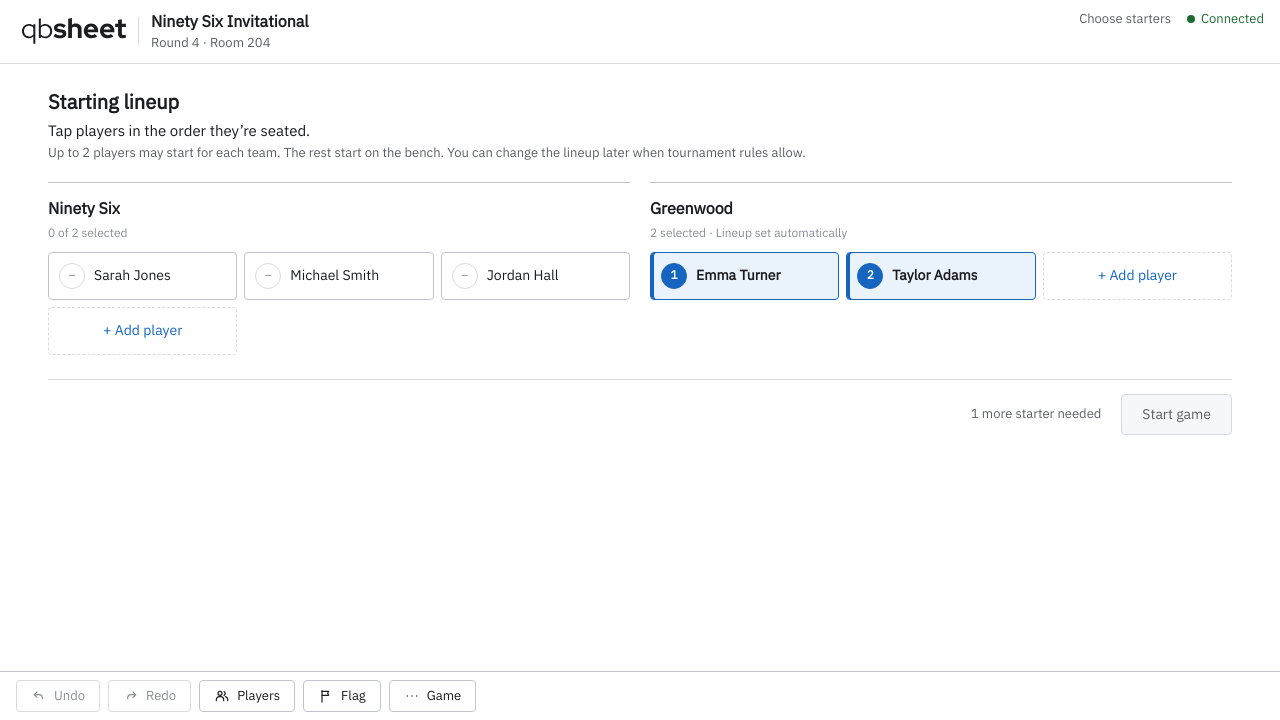
who is starting › the starters chosen are the ones charged with tossups heard from question one
The image size is (1280, 720).
What coordinates should you click on to do the following:
click the button with aria-label "Start Michael Smith"
I would click on:
 (339, 276)
Its box is [244, 252, 434, 300].
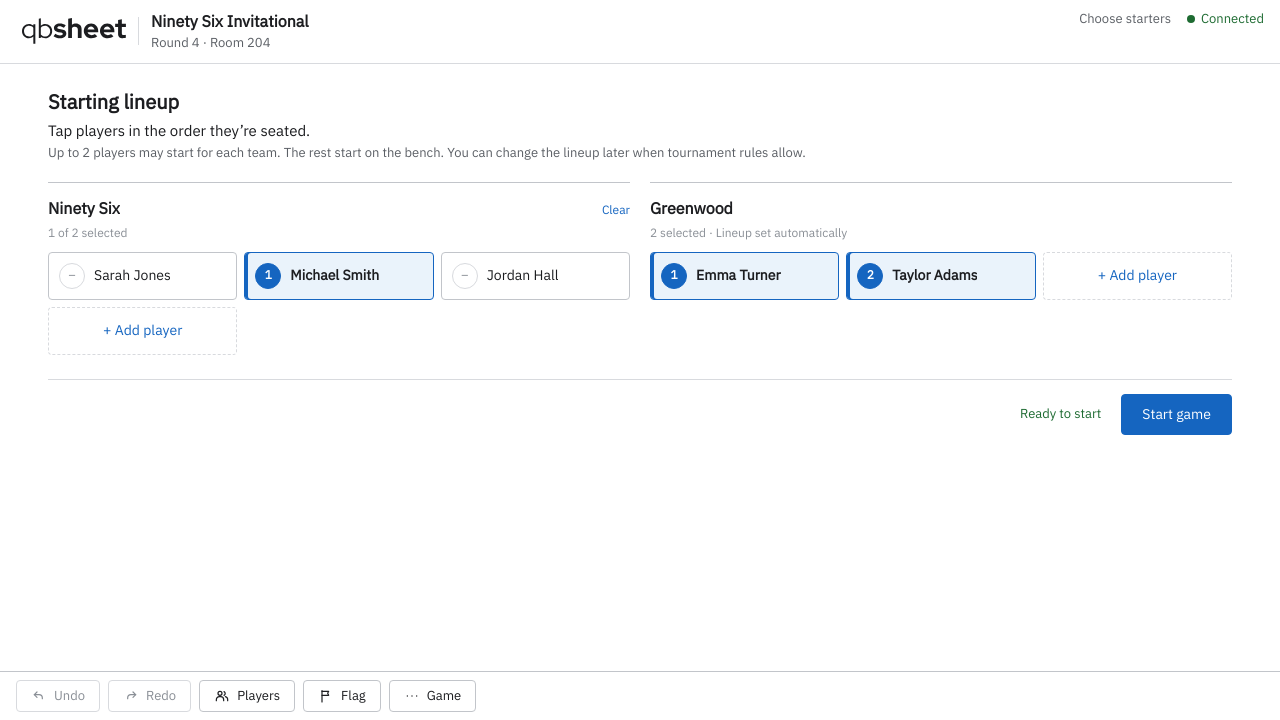
What coordinates should you click on to do the following:
click the button with aria-label "Start Jordan Hall"
I would click on:
 (535, 276)
Its box is [441, 252, 630, 300].
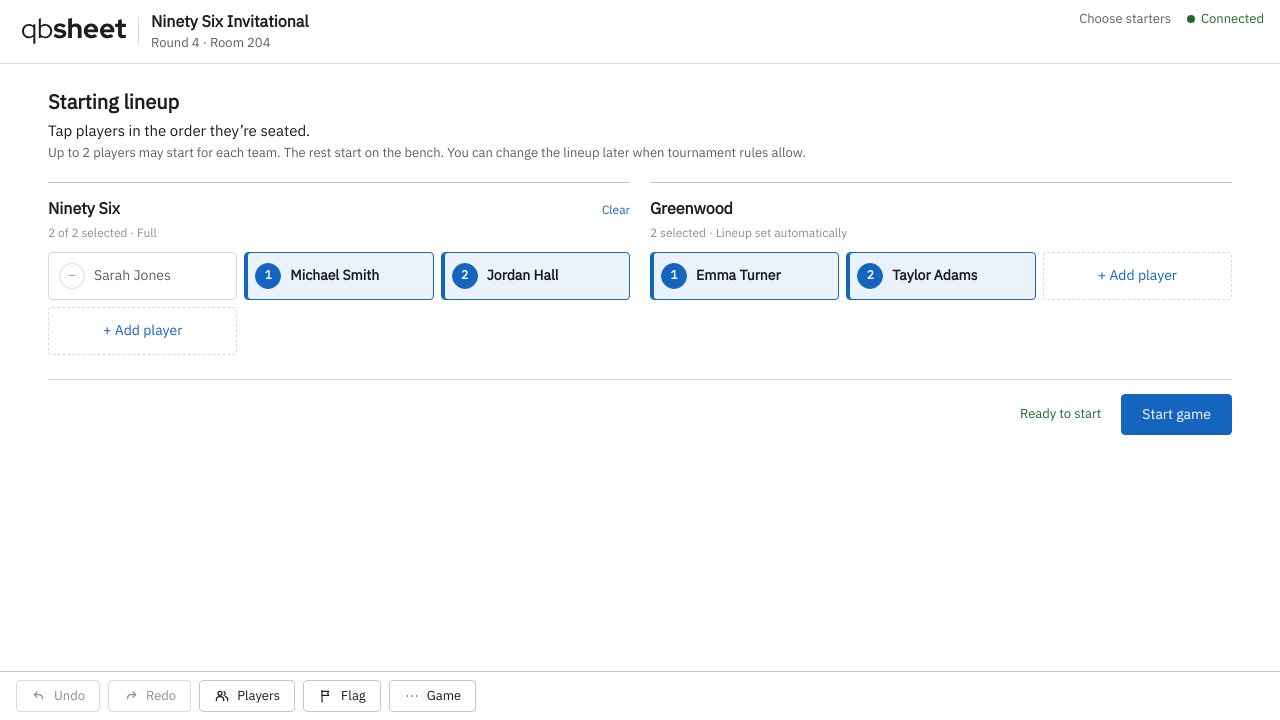
What coordinates should you click on to do the following:
click the button "Start game"
I would click on:
 (1177, 414)
Its box is [1121, 394, 1232, 435].
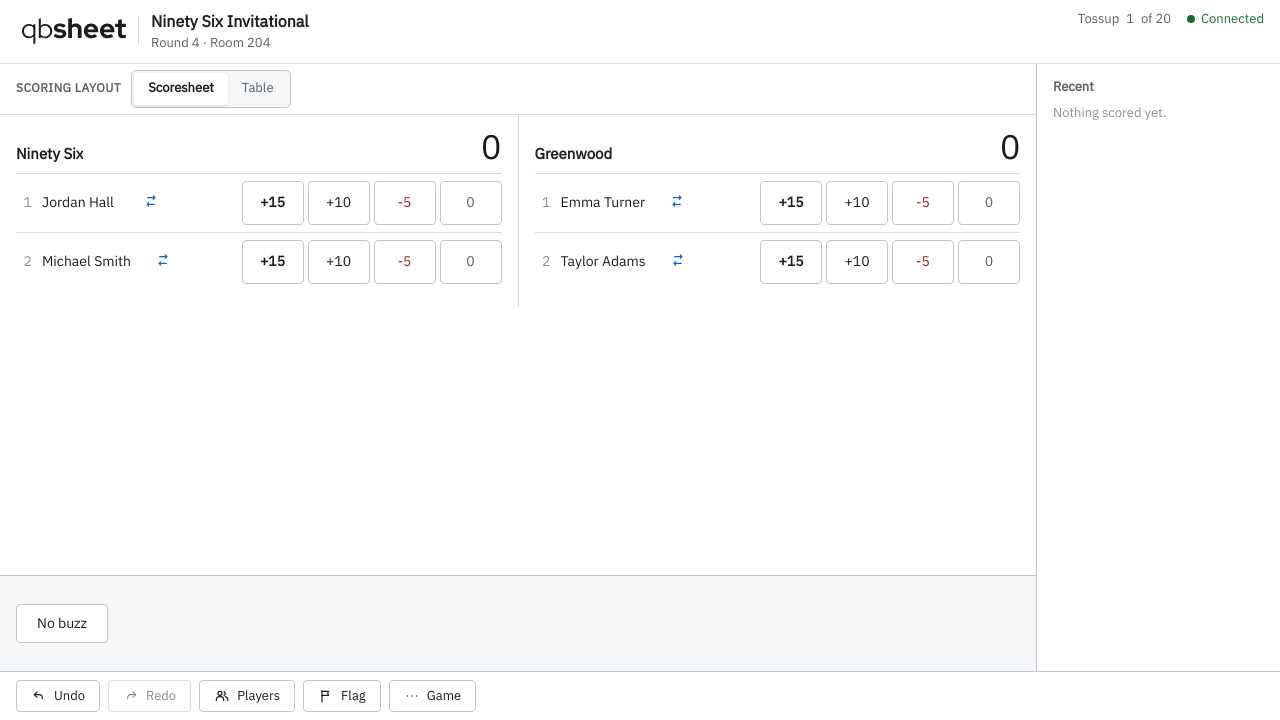
What coordinates should you click on to do the following:
click the button "+10" in the row of "Michael Smith"
I would click on:
 (338, 262)
Its box is [308, 240, 370, 284].
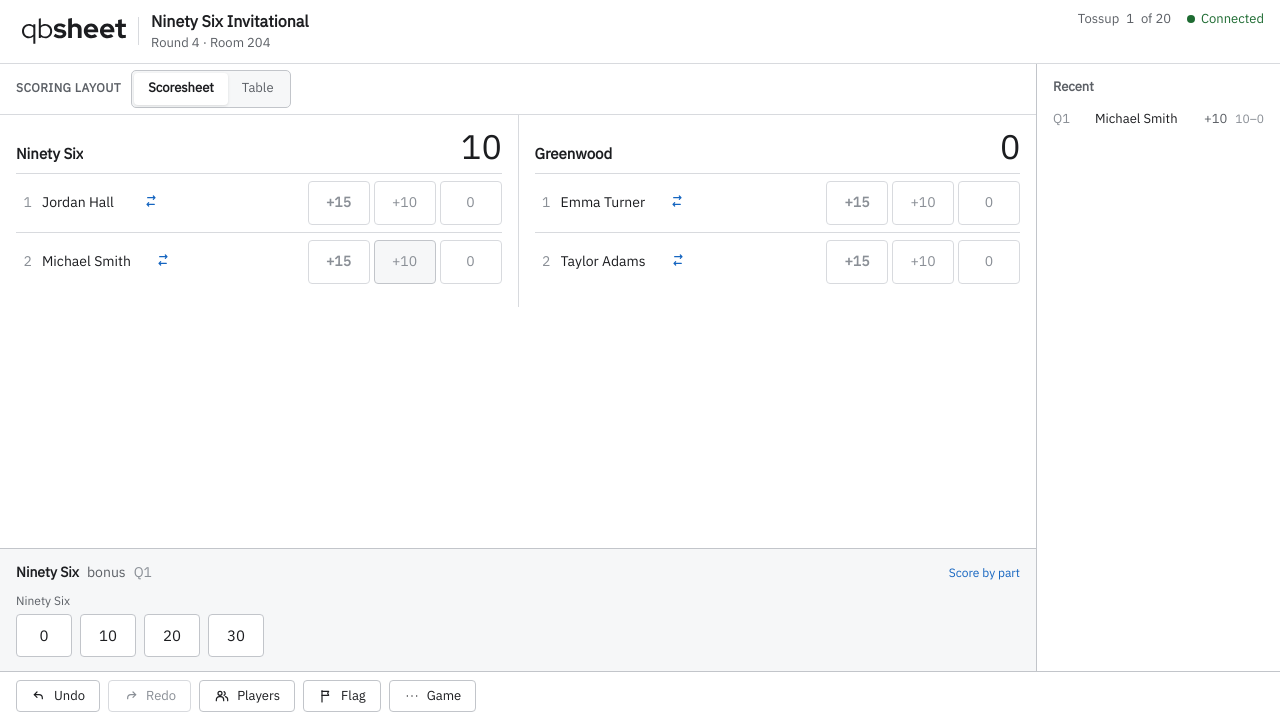
What coordinates should you click on to do the following:
click the button "Players"
I would click on:
 (247, 696)
Its box is [199, 680, 295, 712].
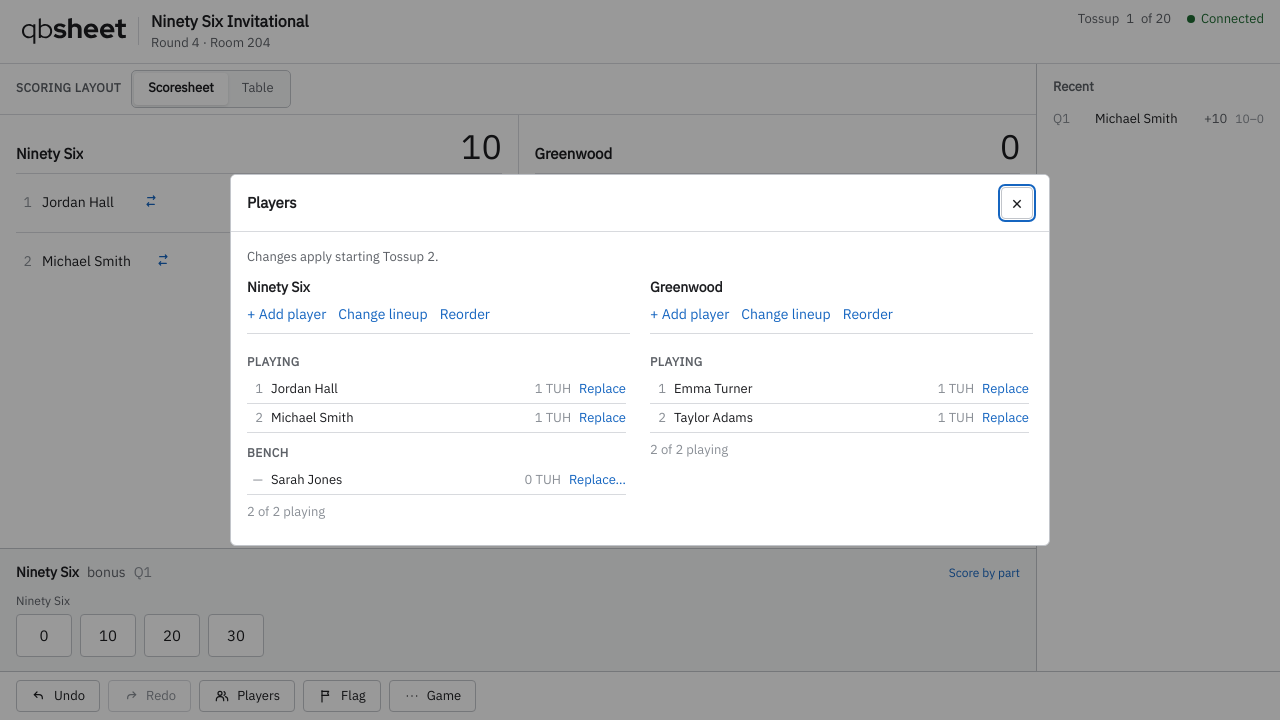
Check: the list item "Sarah Jones" shows "0 TUH", box [247, 466, 626, 495]
Check: the list item "Michael Smith" shows "1 TUH", box [247, 404, 626, 433]
